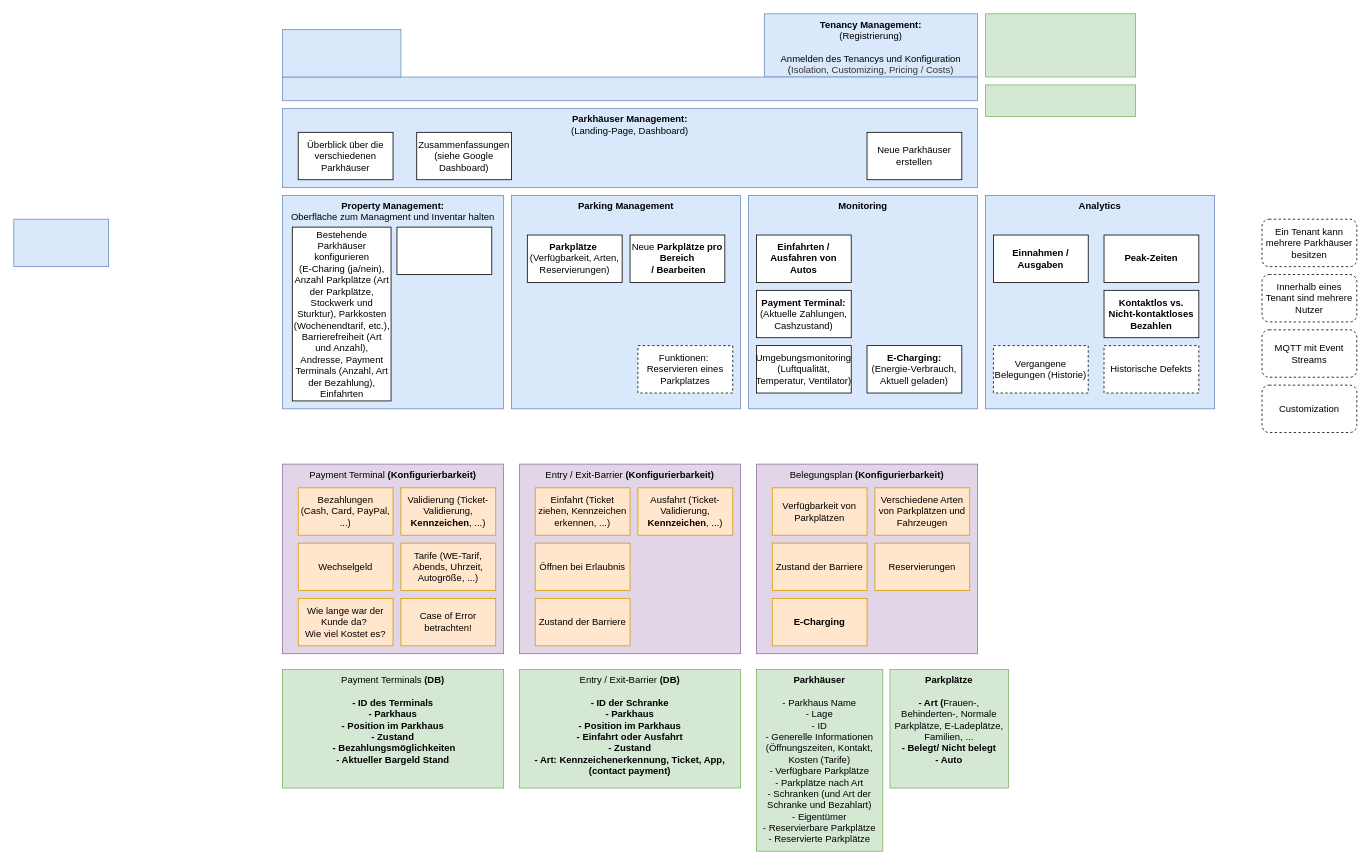
Image size: 1371x865. Some labels were removed from this diagram. Each missing label, with the centre of its shape:
Add On: Oberfläche für einen Endnutzer bereitstellen?: [61,242]
Cloud Identity Platform - Tenants . - User - Unterschiedliche Previlegien: [1060,45]
Defect Management (Ticket-System, E-Mails versenden?): [444,250]
Login: [630,88]
User Management: neue Nutzer Hinzufügen und Managen: [341,53]
Verschiedene Rollen: Admin, Facility-Manager, Manager, User: [1060,100]
